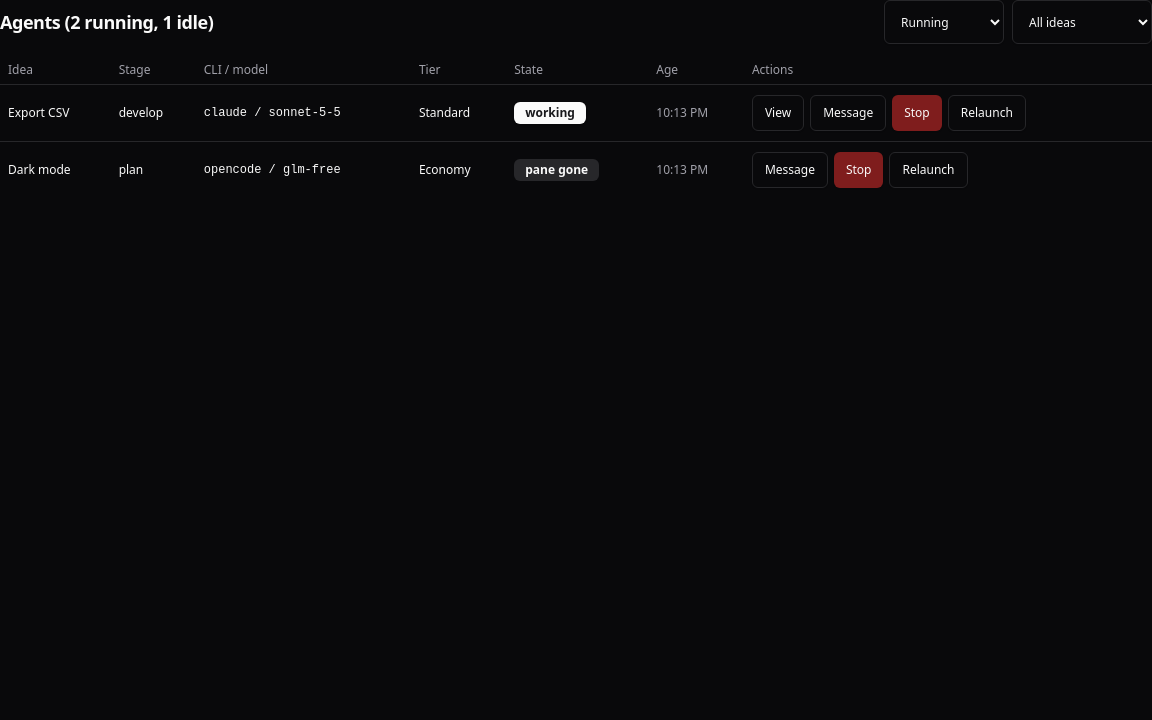
Test: AgentsView actions › stops only after the job id is typed
Later steps or results of the test are not shown.
Click the button "Stop" in the row of "develop".
click(917, 113)  # box [892, 95, 942, 131]
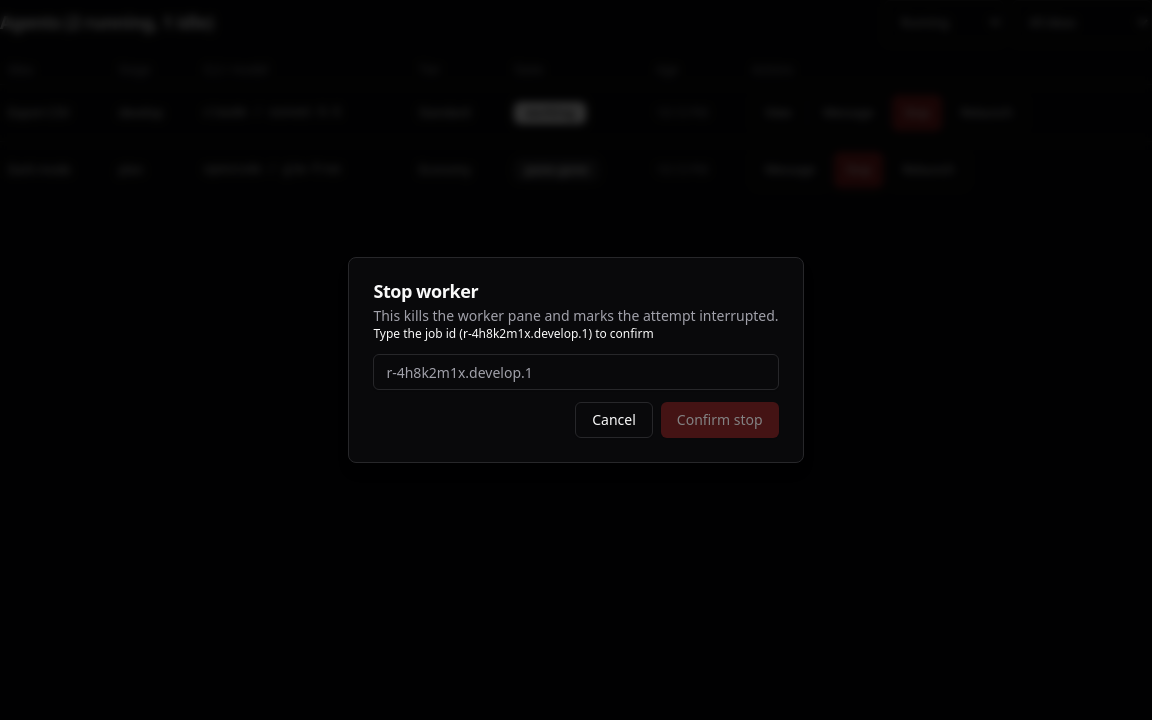
expect the button "Confirm stop" is disabled: met, box [661, 402, 779, 438]
